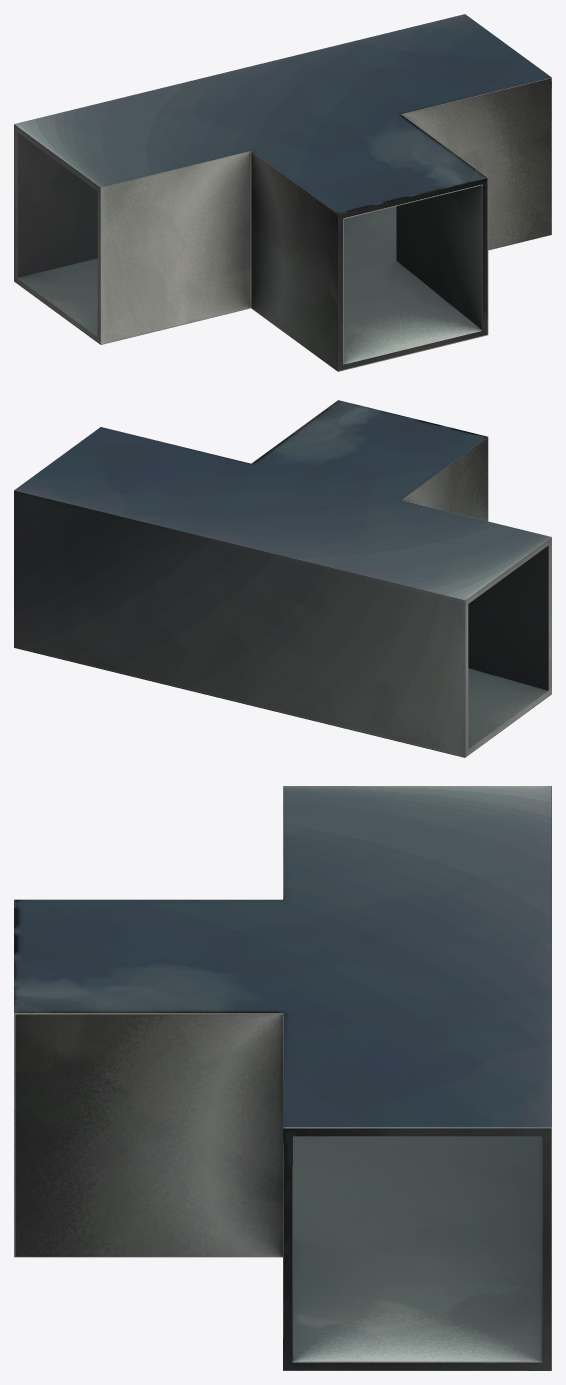
Rendered from Cell_T.fbx.
3 views of the same model, one above another, from view 1: azimuth 30°, elevation 25°; view 2: azimuth 150°, elevation 25°; view 3: azimuth 270°, elevation 25° (orthographic). The views are drawn at different scales.
Parts seen in each view (by area): view 1: Cube.003; view 2: Cube.003; view 3: Cube.003.
Part boxes in pixels (<box>): Cube.003: <box>14,14,551,371</box>; Cube.003: <box>14,400,551,757</box>; Cube.003: <box>14,786,551,1370</box>.
Size of the model in its own units: 600 by 200 by 400.
